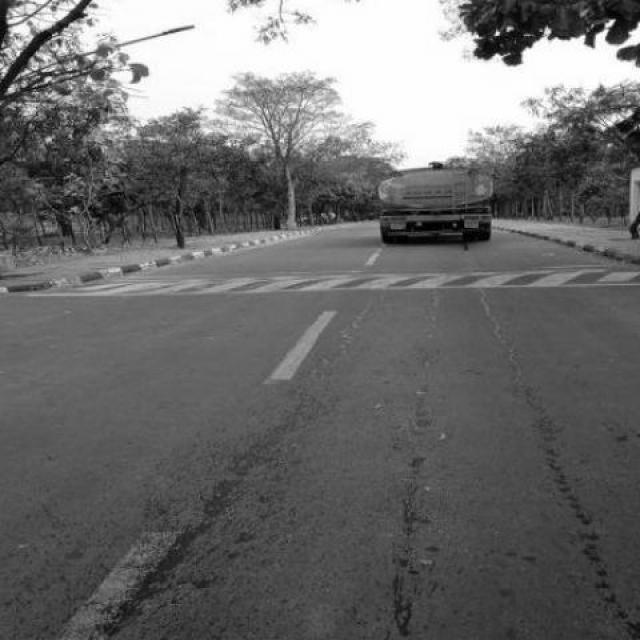Speed Bump: (74, 270, 638, 298)
